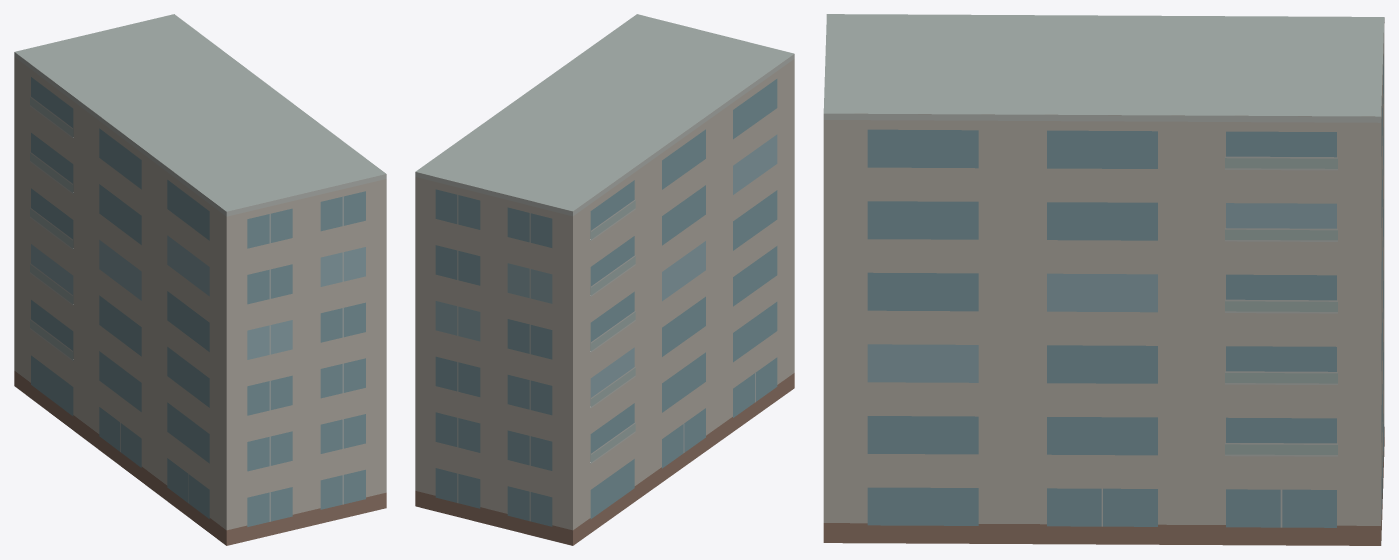
File: survey-upis-32994155.glb
3 views of the same model, side by side, from view 1: azimuth 30°, elevation 25°; view 2: azimuth 150°, elevation 25°; view 3: azimuth 270°, elevation 25° (orthographic). The views are drawn at different scales.
Parts seen in each view (by area): view 1: survey-upis-32994155.tmp; view 2: survey-upis-32994155.tmp; view 3: survey-upis-32994155.tmp.
Part boxes in pixels (left/top/right/bottom): survey-upis-32994155.tmp: left=14, top=14, right=386, bottom=545; survey-upis-32994155.tmp: left=415, top=14, right=794, bottom=545; survey-upis-32994155.tmp: left=823, top=14, right=1384, bottom=545.
Size of the model in its own units: 8.47 by 16.5 by 19.54.
